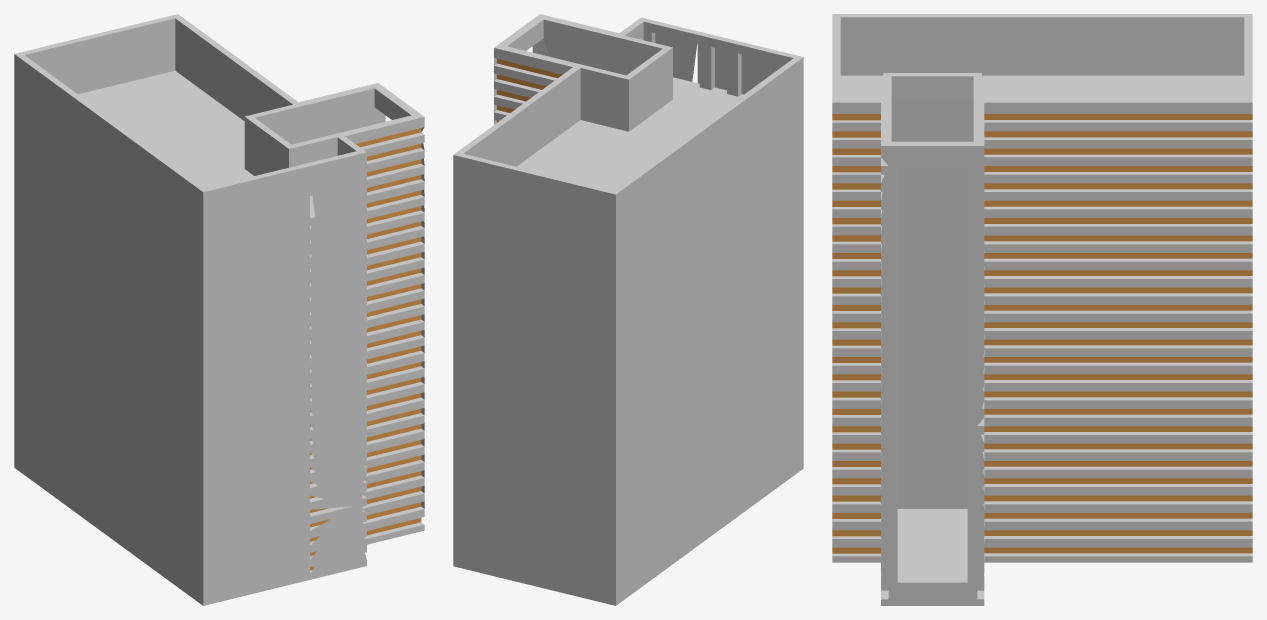
File: Высотка_1.fbx
3 renders of one model, left to right at view 1: azimuth 30°, elevation 25°; view 2: azimuth 150°, elevation 25°; view 3: azimuth 270°, elevation 25°, orthographic. The views are drawn at different scales.
Parts seen in each view (by area): view 1: Cube; view 2: Cube; view 3: Cube.
Part boxes in pixels (box(x1,y1,x2,y2)): Cube: box(14, 14, 424, 605); Cube: box(453, 14, 803, 605); Cube: box(832, 14, 1252, 605).
Size of the model in its own units: 2.97 by 4.83 by 4.
